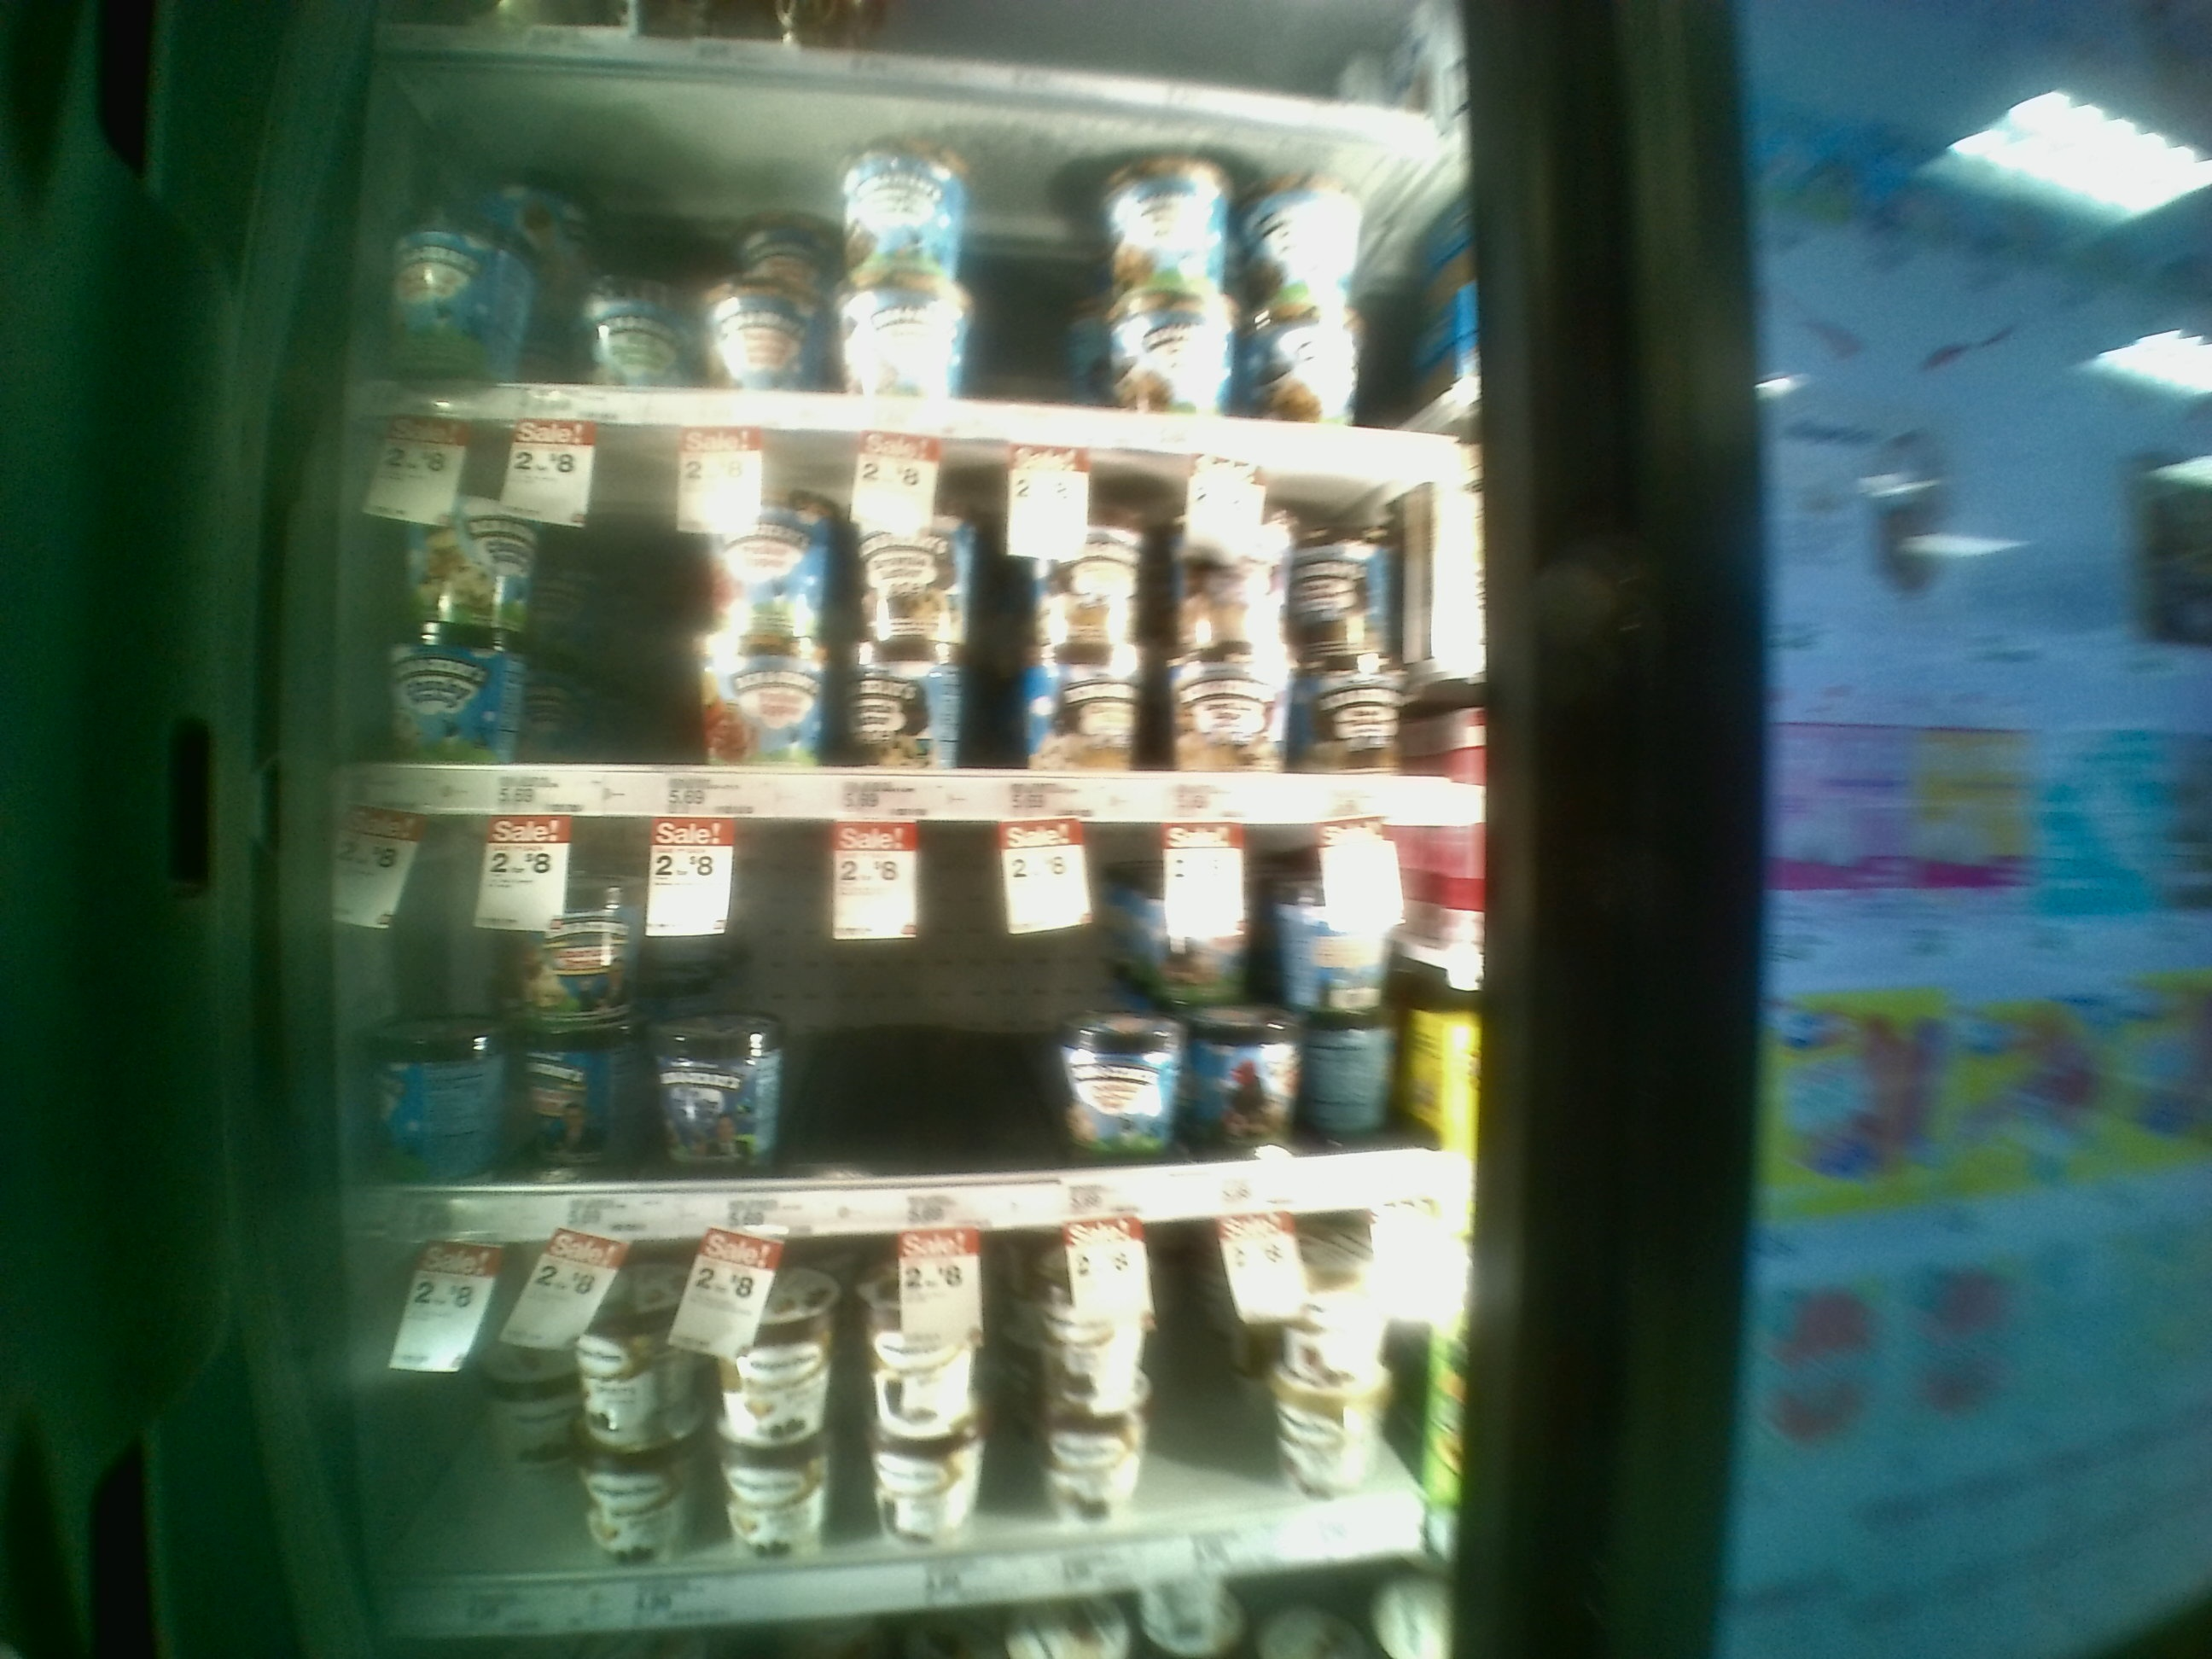shelf: (334, 37, 1463, 465), (354, 809, 1470, 1236), (355, 425, 1479, 814)
